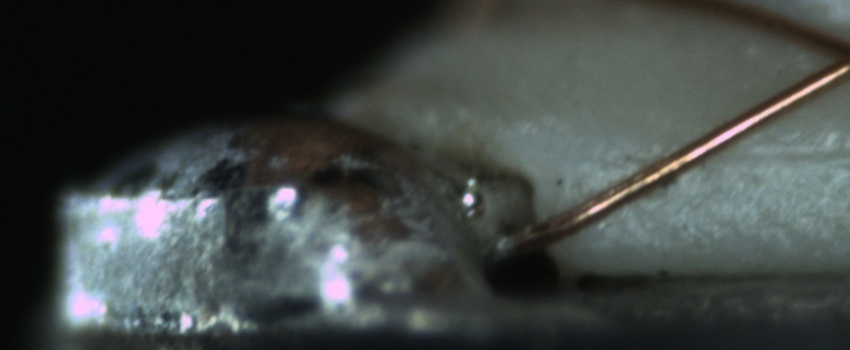CL: (804, 12, 850, 88)
DL: (605, 121, 849, 189)
